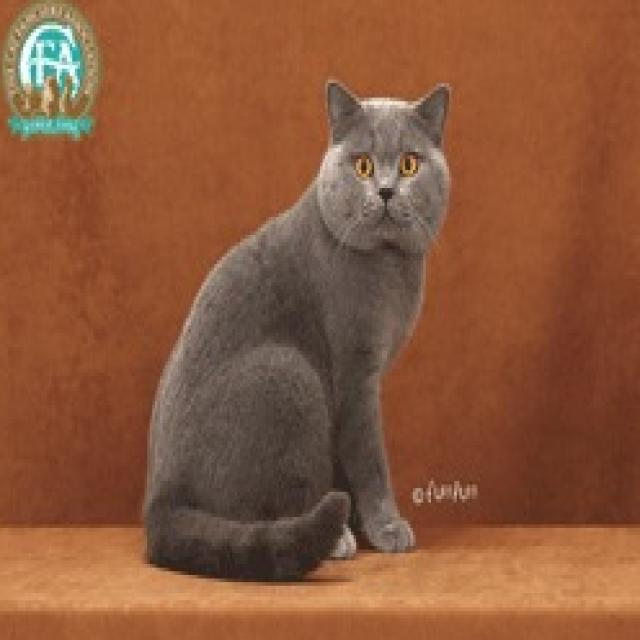British Shorthair: (140, 71, 458, 590)
